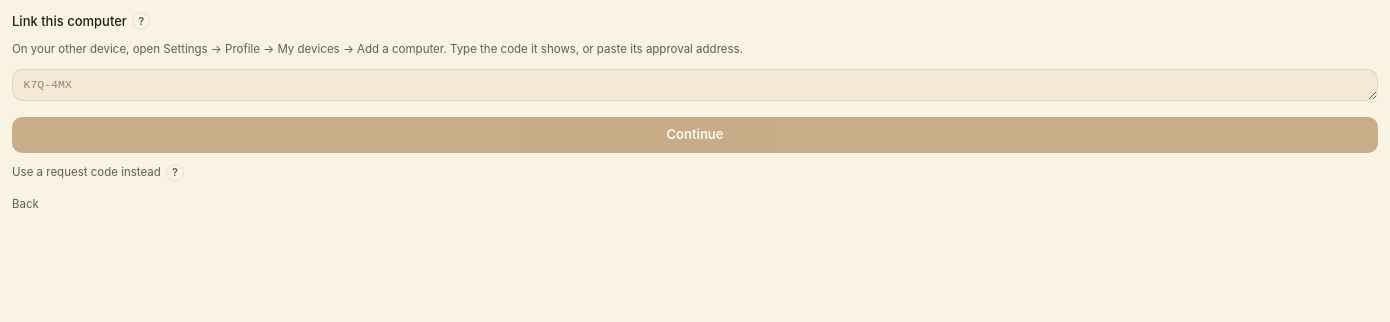
Scenario: LinkThisDevice › a request code is there from the start, behind one quiet link
Click the button "Use a request code instead" at {"x": 86, "y": 173}, box [12,164,161,181]
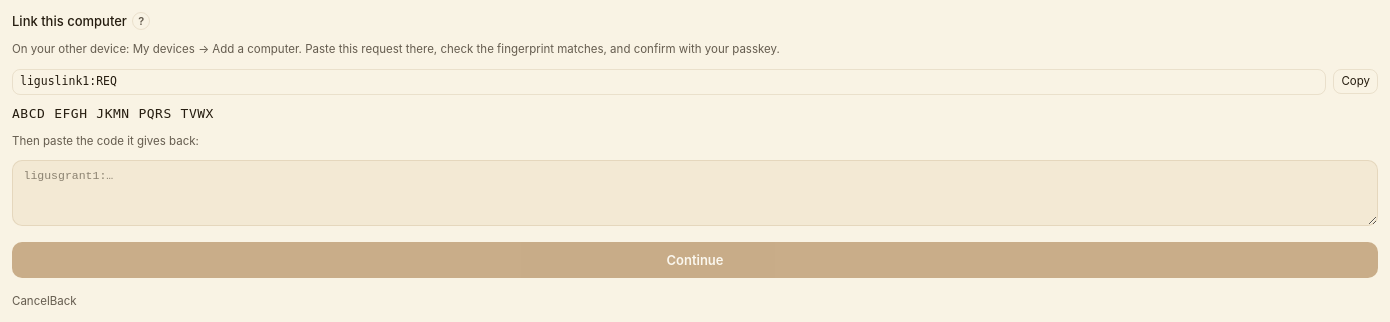
Expected: the text "liguslink1:REQ" is shown, [12,68,1326,95]
